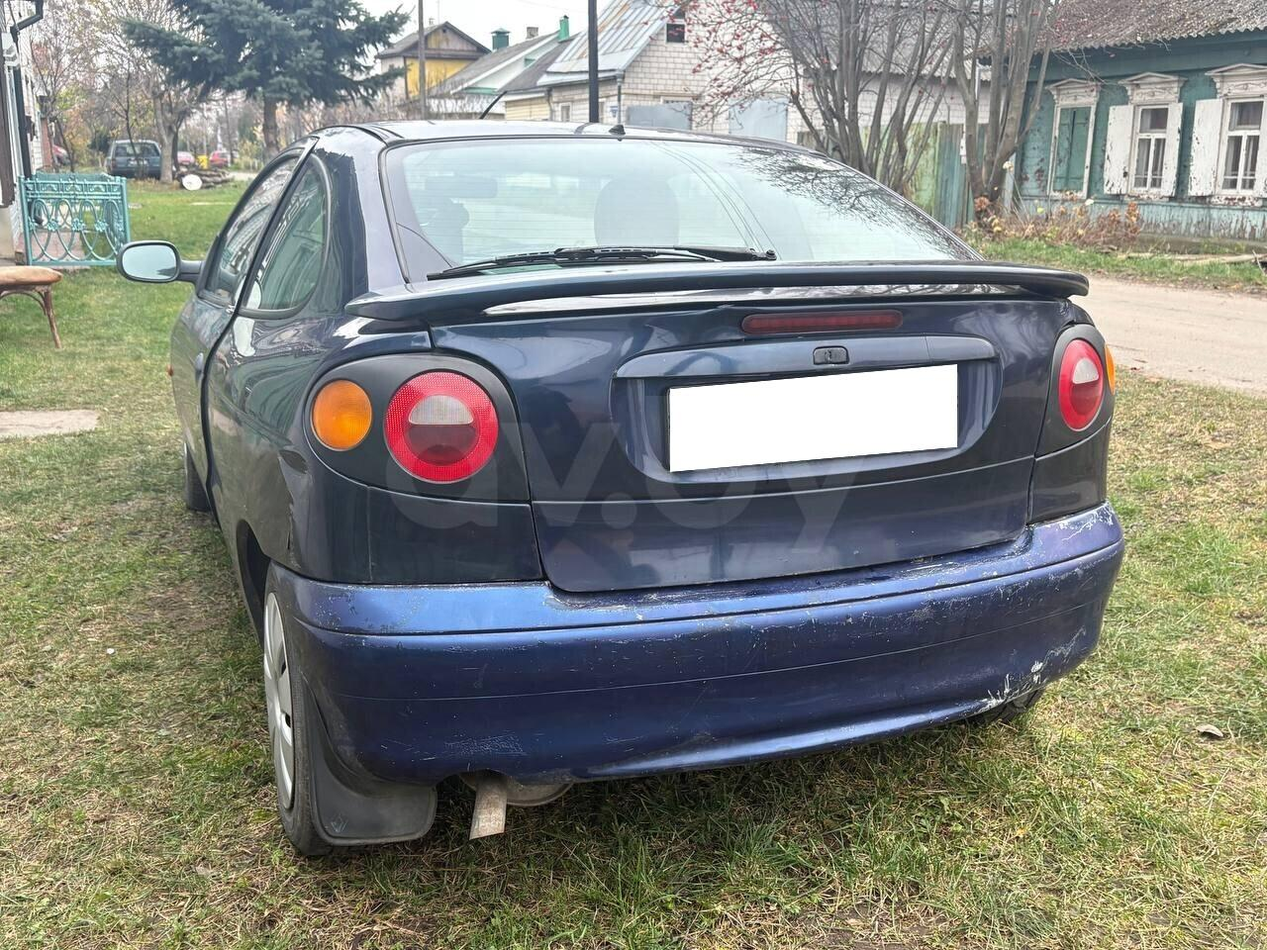Megane_1995-1999: (153, 104, 1140, 851)
